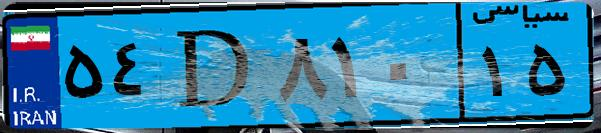0: (385, 28, 445, 110)
1: (330, 28, 385, 110), (475, 38, 525, 113)
4: (110, 28, 158, 98)
5: (57, 26, 110, 100), (525, 38, 570, 115)
8: (270, 28, 330, 110)
D: (158, 12, 270, 120)
